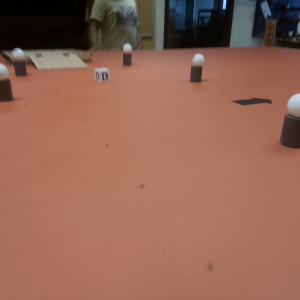blockD: (95, 67, 109, 82)
corner: (267, 17, 275, 45)
obstacle: (189, 53, 204, 83), (1, 64, 12, 100), (13, 49, 26, 76), (122, 44, 132, 65)
slope: (29, 53, 87, 69)
start: (232, 94, 273, 107)
